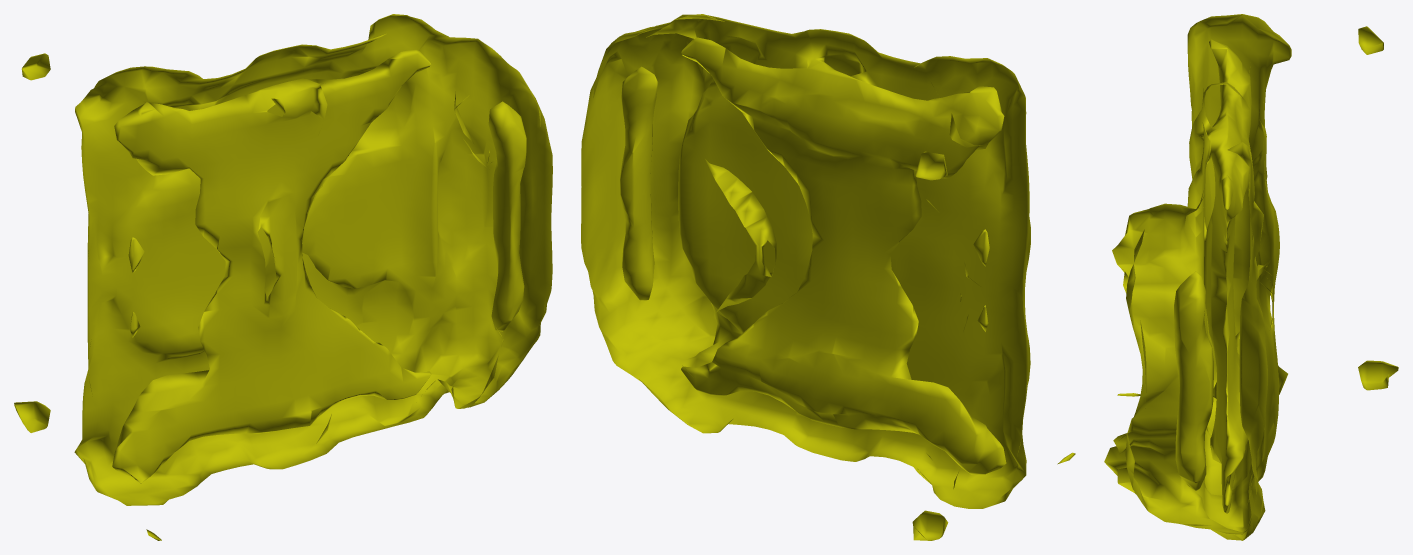
The picture shows the model from 3 angles, left to right: view 1: azimuth 30°, elevation 25°; view 2: azimuth 150°, elevation 25°; view 3: azimuth 270°, elevation 25°; orthographic projection. The views are drawn at different scales.
Parts seen in each view (by area): view 1: world; view 2: world; view 3: world.
Part boxes in pixels (bbox=[...]): world: bbox=[14, 14, 552, 540]; world: bbox=[581, 14, 1075, 540]; world: bbox=[1104, 14, 1398, 540].
Size of the model in its own units: 30.9 by 28.52 by 18.95.
